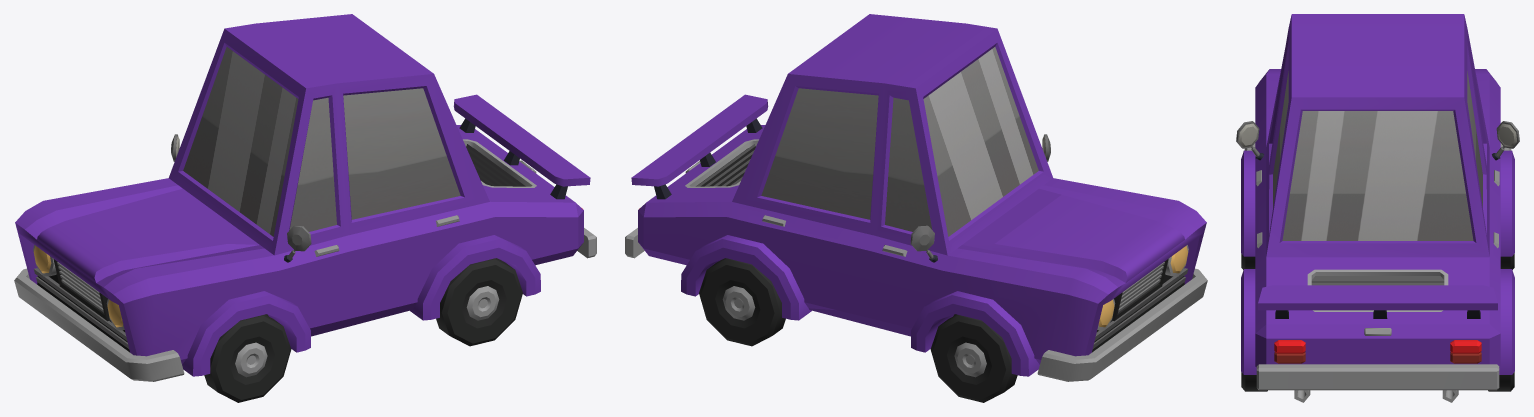
Rendered from Car_6_Z.gltf.
3 renders of one model, left to right at view 1: azimuth 30°, elevation 25°; view 2: azimuth 150°, elevation 25°; view 3: azimuth 270°, elevation 25°, orthographic. The views are drawn at different scales.
Parts seen in each view (by area): view 1: Car_6_Z, RL, FL; view 2: Car_6_Z, RR, FR; view 3: Car_6_Z, RL, RR.
Part boxes in pixels (x1,y1,x2,y2): Car_6_Z: [14, 14, 596, 381]; RL: [436, 258, 522, 346]; FL: [204, 314, 291, 402]; Car_6_Z: [625, 14, 1207, 381]; RR: [699, 258, 785, 346]; FR: [930, 314, 1017, 402]; Car_6_Z: [1236, 14, 1519, 402]; RL: [1241, 372, 1267, 391]; RR: [1488, 372, 1514, 391].
Bounding box in the file's own units: 3.1 × 1.72 × 1.51.
Materials: 4 (4 with a texture image).
